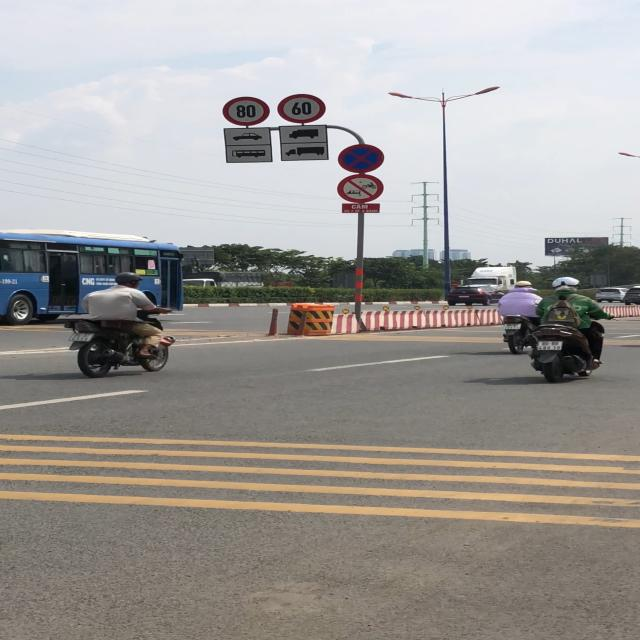Bien bao cam dung xe va do xe: (336, 142, 386, 174)
Bien bao toc do toi da cho phep: (276, 92, 328, 124), (222, 95, 273, 126)
